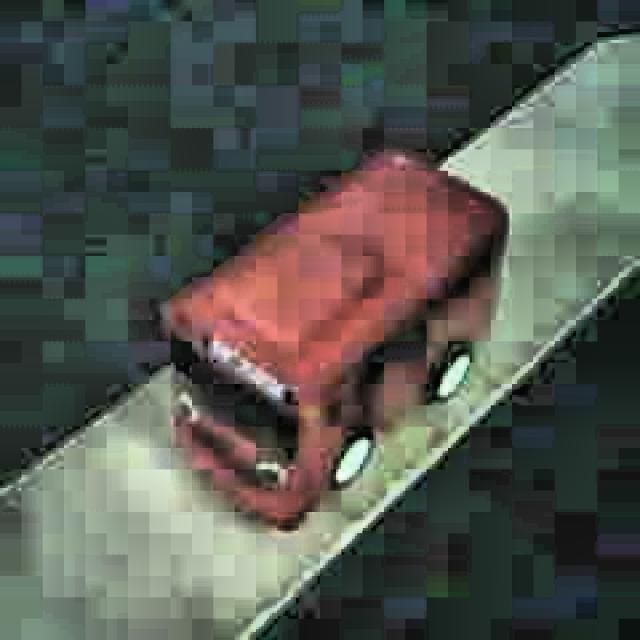bus: (170, 152, 510, 532)
